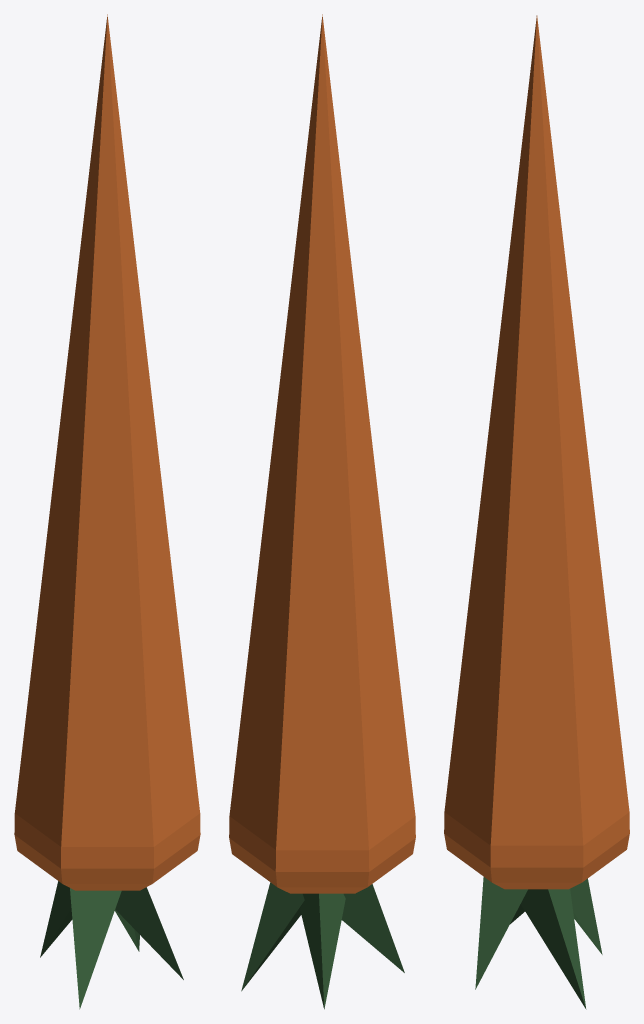
The model's file is carrot.glb.
3 views of the same model, side by side, from view 1: azimuth 30°, elevation 25°; view 2: azimuth 150°, elevation 25°; view 3: azimuth 270°, elevation 25° (orthographic).
Visible parts, largest first — view 1: Cone, Cone.004, Cone.003, Cone.001; view 2: Cone, Cone.001, Cone.002, Cone.004; view 3: Cone, Cone.002, Cone.003, Cone.001.
Boxes of the visible parts, bbox=[...] form: Cone: bbox=[14, 14, 200, 890]; Cone.004: bbox=[70, 888, 121, 1009]; Cone.003: bbox=[115, 887, 183, 979]; Cone.001: bbox=[40, 881, 72, 957]; Cone: bbox=[229, 14, 415, 893]; Cone.001: bbox=[300, 893, 345, 1009]; Cone.002: bbox=[241, 882, 304, 991]; Cone.004: bbox=[341, 884, 404, 972]; Cone: bbox=[444, 15, 629, 889]; Cone.002: bbox=[521, 889, 586, 1009]; Cone.003: bbox=[475, 877, 527, 989]; Cone.001: bbox=[570, 878, 602, 954].
Size of the model in its own units: 0.0285 by 0.189 by 0.0329.
